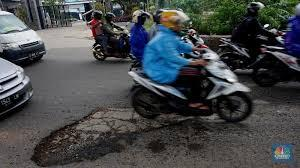Pothole: (20, 108, 203, 166)
